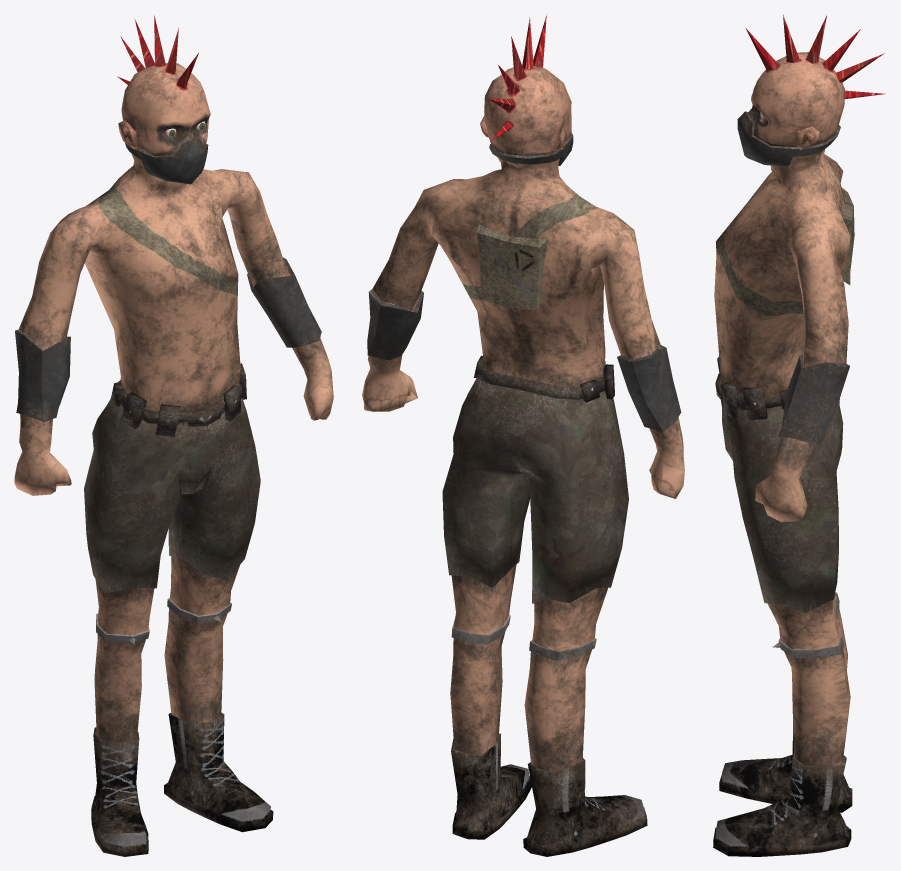
Rendered from Anim_disparar_ametralladora_npc2.0038.obj.
3 views of the same model, side by side, from view 1: azimuth 30°, elevation 25°; view 2: azimuth 150°, elevation 25°; view 3: azimuth 270°, elevation 25° (orthographic). The views are drawn at different scales.
Visible parts, largest first — view 1: polySurface1; view 2: polySurface1; view 3: polySurface1.
Part boxes in pixels (x1,y1,x2,y2): polySurface1: (14,15,333,856); polySurface1: (362,15,684,856); polySurface1: (713,14,885,856).
Bounding box in the file's own units: 4.26 × 10.19 × 1.98.
